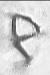N14: (5, 1, 46, 74)
